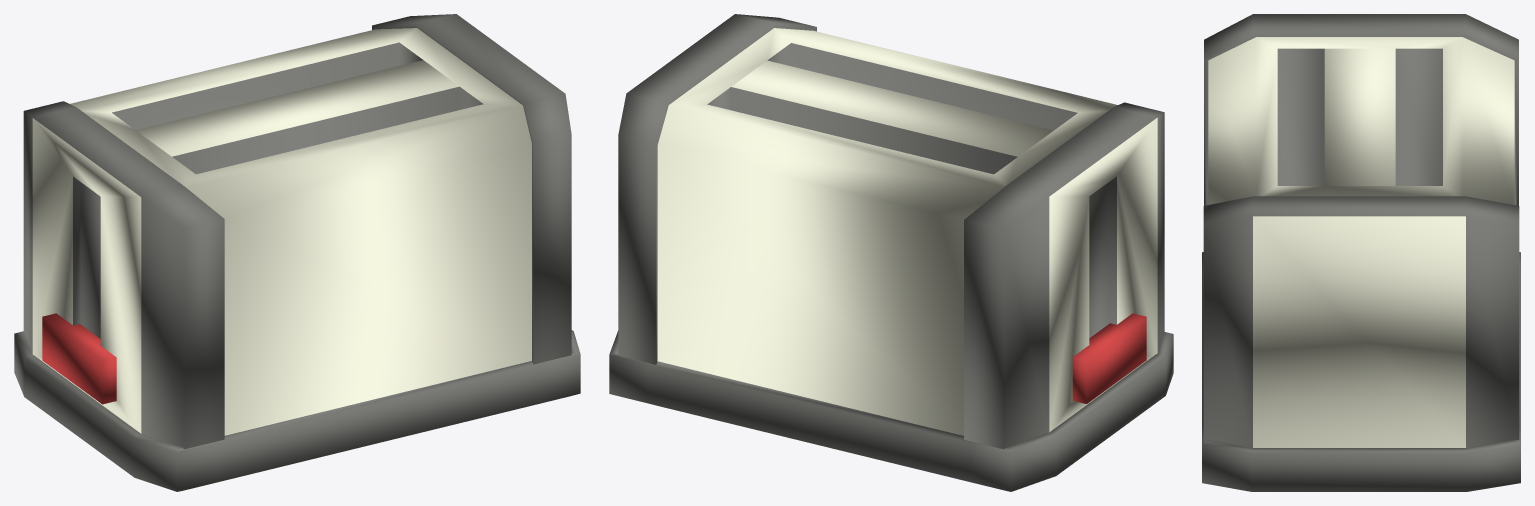
File: Toaster.fbx
3 views of the same model, side by side, from view 1: azimuth 30°, elevation 25°; view 2: azimuth 150°, elevation 25°; view 3: azimuth 270°, elevation 25° (orthographic). The views are drawn at different scales.
Parts seen in each view (by area): view 1: Cube.8188; view 2: Cube.8188; view 3: Cube.8188.
Boxes of the visible parts, x1,y1,x2,y2 form: Cube.8188: (14,14,580,491); Cube.8188: (609,14,1173,491); Cube.8188: (1202,14,1520,491).
Size of the model in its own units: 58.75 by 35.44 by 37.2.
1 material, 1 textured.
